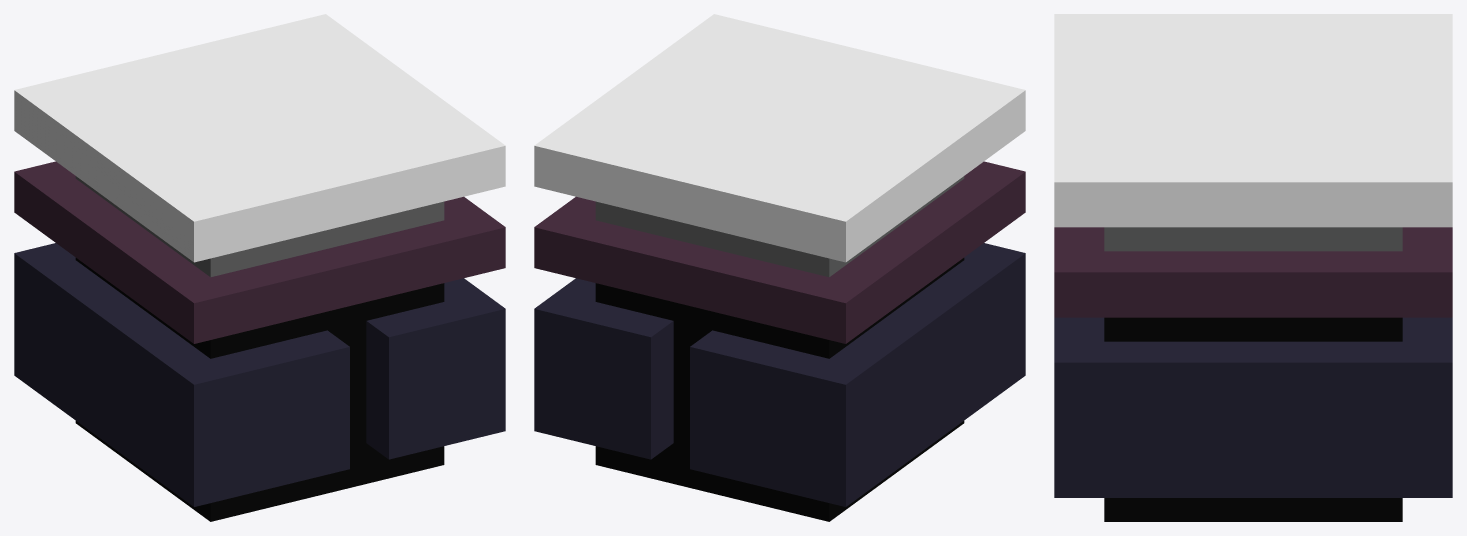
Rendered from floor_4.fbx.
3 renders of one model, left to right at view 1: azimuth 30°, elevation 25°; view 2: azimuth 150°, elevation 25°; view 3: azimuth 270°, elevation 25°, orthographic. The views are drawn at different scales.
Visible parts, largest first — view 1: floor_4; view 2: floor_4; view 3: floor_4.
Part boxes in pixels (x1,y1,x2,y2): floor_4: (14, 14, 505, 521); floor_4: (534, 14, 1025, 521); floor_4: (1054, 14, 1452, 521).
Size of the model in its own units: 8 by 8 by 8.
